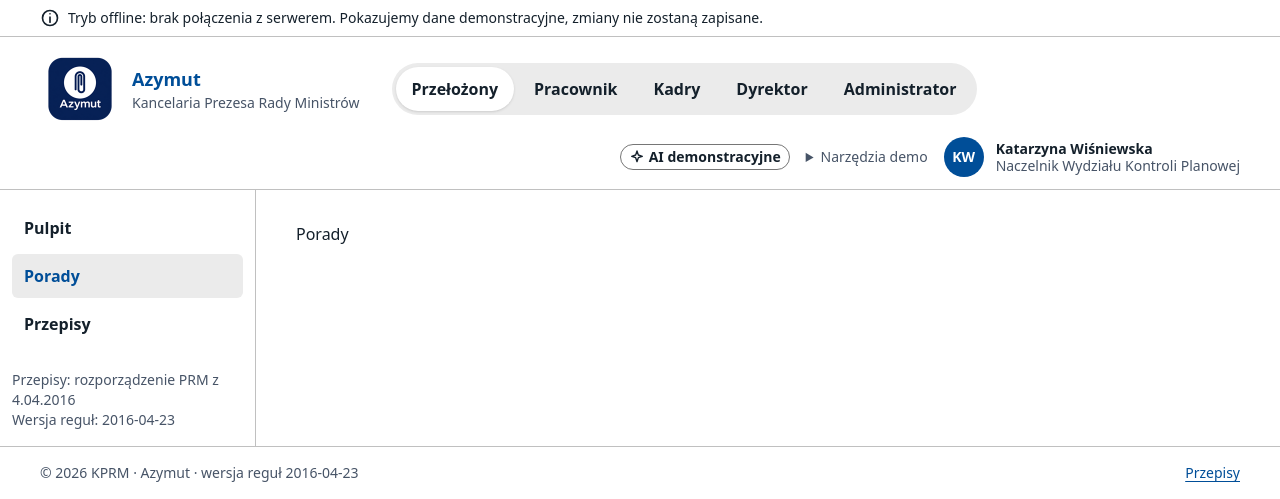
Test: R1 shell › R1.2 sets the role and opens its start feature from a role tab
Click the link "Pracownik". click: coordinates (576, 89)
box: top-left (534, 78), bottom-right (618, 100)
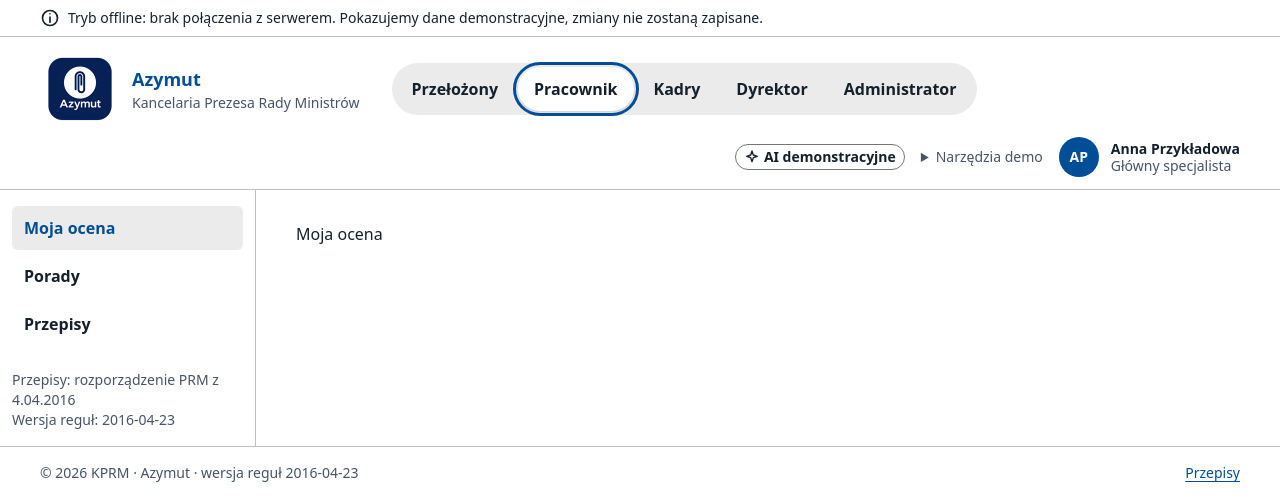
expect the heading "Moja ocena" is shown: met, box top-left (296, 223), bottom-right (383, 245)
